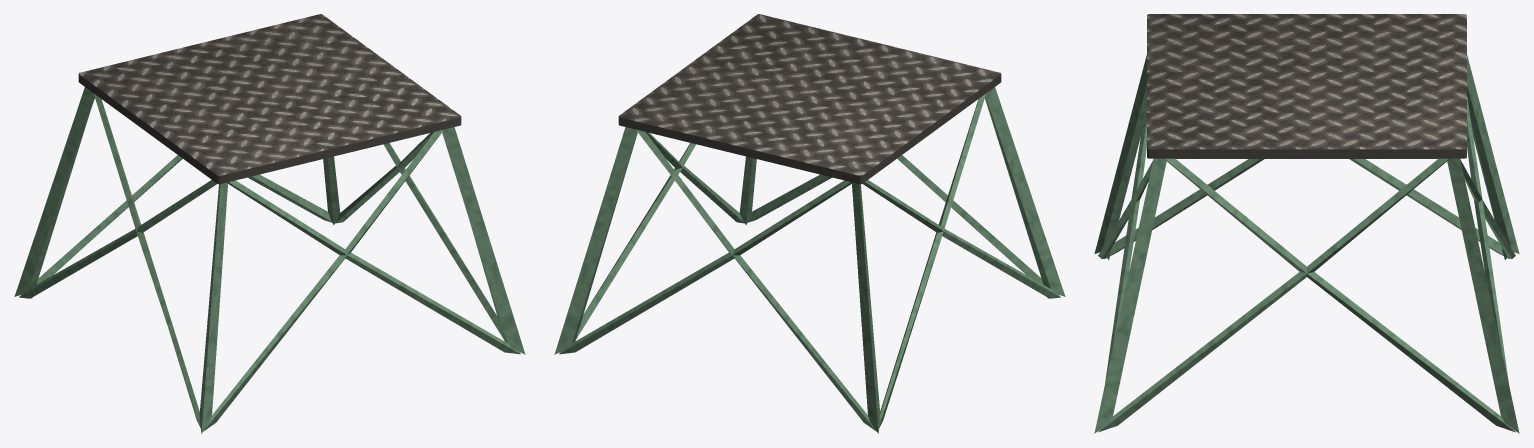
File: Metal Platform.fbx
The picture shows the model from 3 angles, left to right: view 1: azimuth 30°, elevation 25°; view 2: azimuth 150°, elevation 25°; view 3: azimuth 270°, elevation 25°; orthographic projection. The views are drawn at different scales.
Parts seen in each view (by area): view 1: Cube.084, Cube.063; view 2: Cube.084, Cube.063; view 3: Cube.084, Cube.063.
Boxes of the visible parts, box(x1,y1,x2,y2) form: Cube.084: box(78, 14, 461, 184); Cube.063: box(14, 87, 525, 433); Cube.084: box(618, 14, 1001, 184); Cube.063: box(554, 87, 1065, 433); Cube.084: box(1147, 14, 1466, 158); Cube.063: box(1094, 55, 1519, 433).
Bounding box in the file's own units: 534 × 365 × 534.
